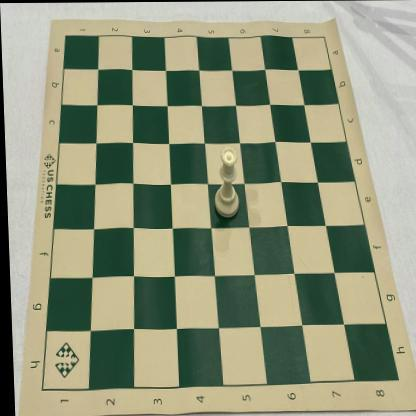white-queen: (211, 146, 239, 219)
